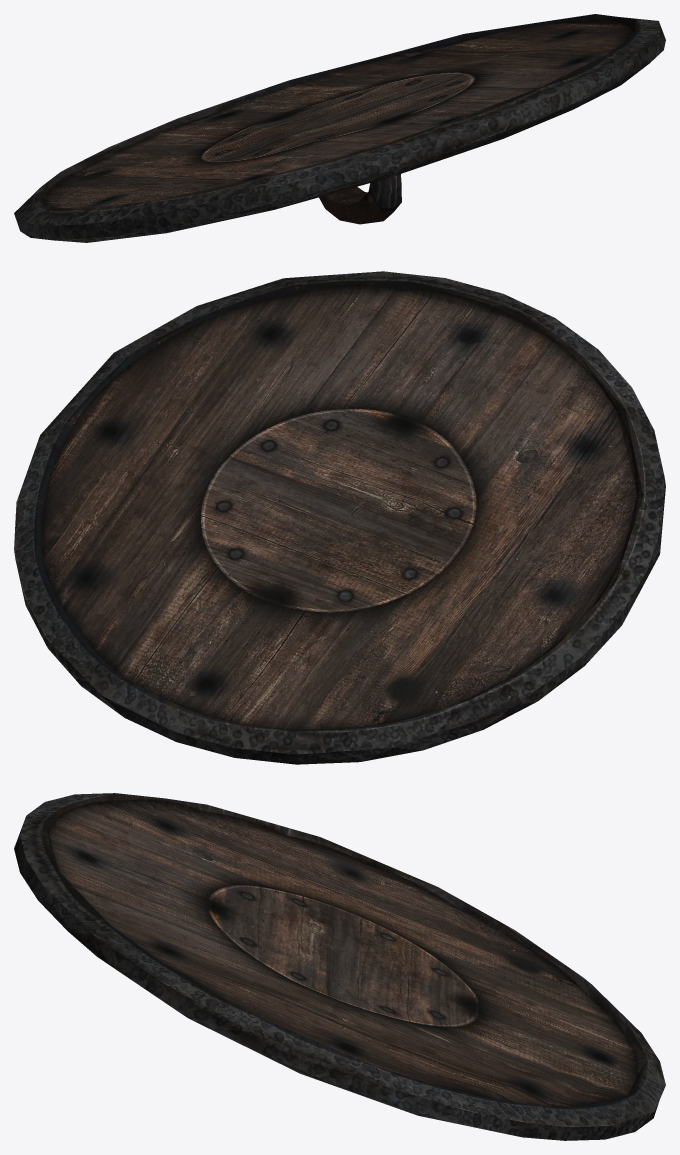
File: ITAR_NEWSHIELD_01.glb
The picture shows the model from 3 angles, top to bottom: view 1: azimuth 30°, elevation 25°; view 2: azimuth 150°, elevation 25°; view 3: azimuth 270°, elevation 25°; orthographic projection. The views are drawn at different scales.
Parts seen in each view (by area): view 1: ITAR_NEWSHIELD_01; view 2: ITAR_NEWSHIELD_01; view 3: ITAR_NEWSHIELD_01.
Boxes of the visible parts, x1,y1,x2,y2 form: ITAR_NEWSHIELD_01: (14,14,665,242); ITAR_NEWSHIELD_01: (14,271,665,764); ITAR_NEWSHIELD_01: (14,793,665,1140).
Size of the model in its own units: 0.6067 by 0.2525 by 0.5692.
Materials: 1 (1 with a texture image).
